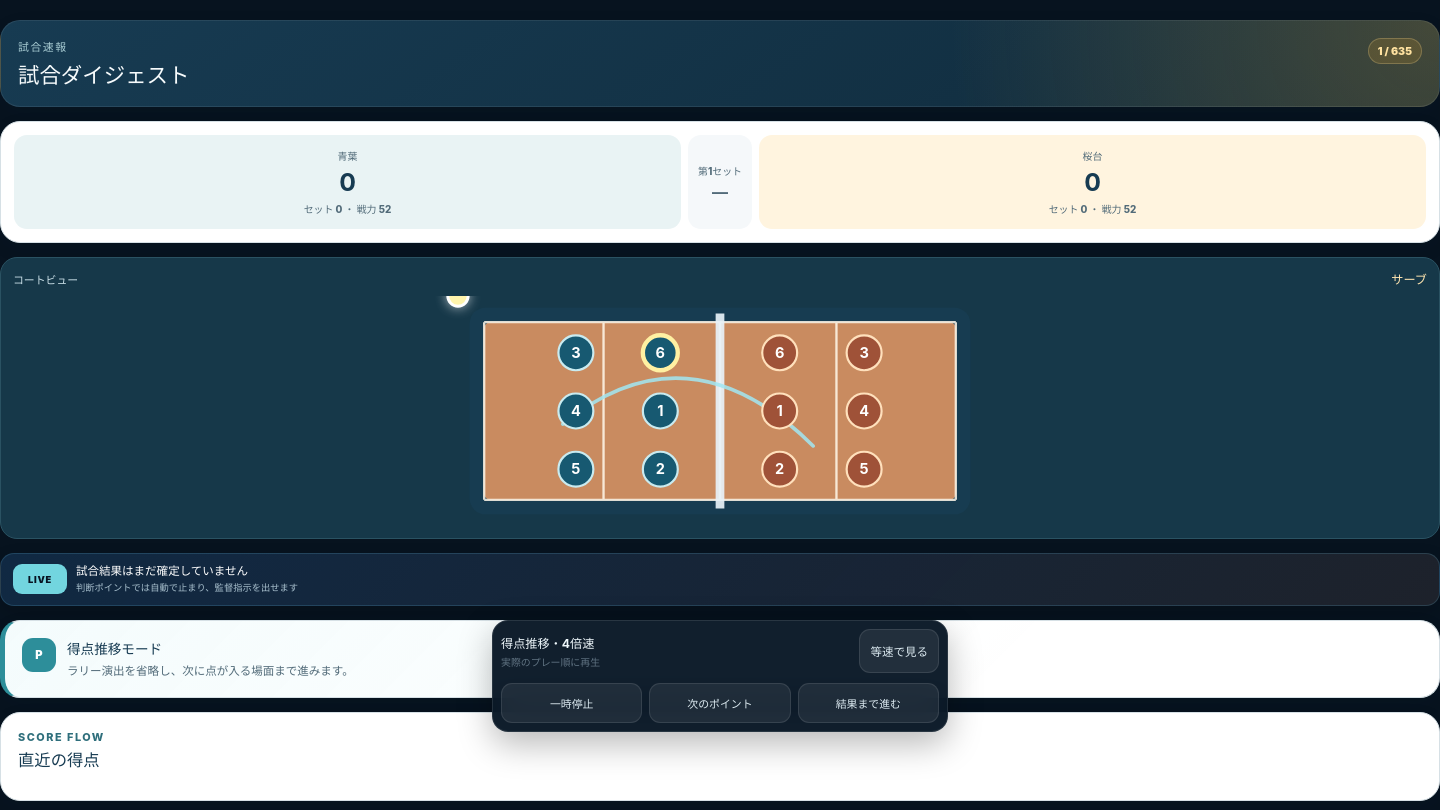
Scenario: Phase 13 game loop polish › shows the match result from the user's perspective with an always-available continuation bar
This screenshot has width=1440, height=810.
Click the button "結果まで進む". click: (868, 703)
box: x1=798 y1=683 x2=939 y2=723
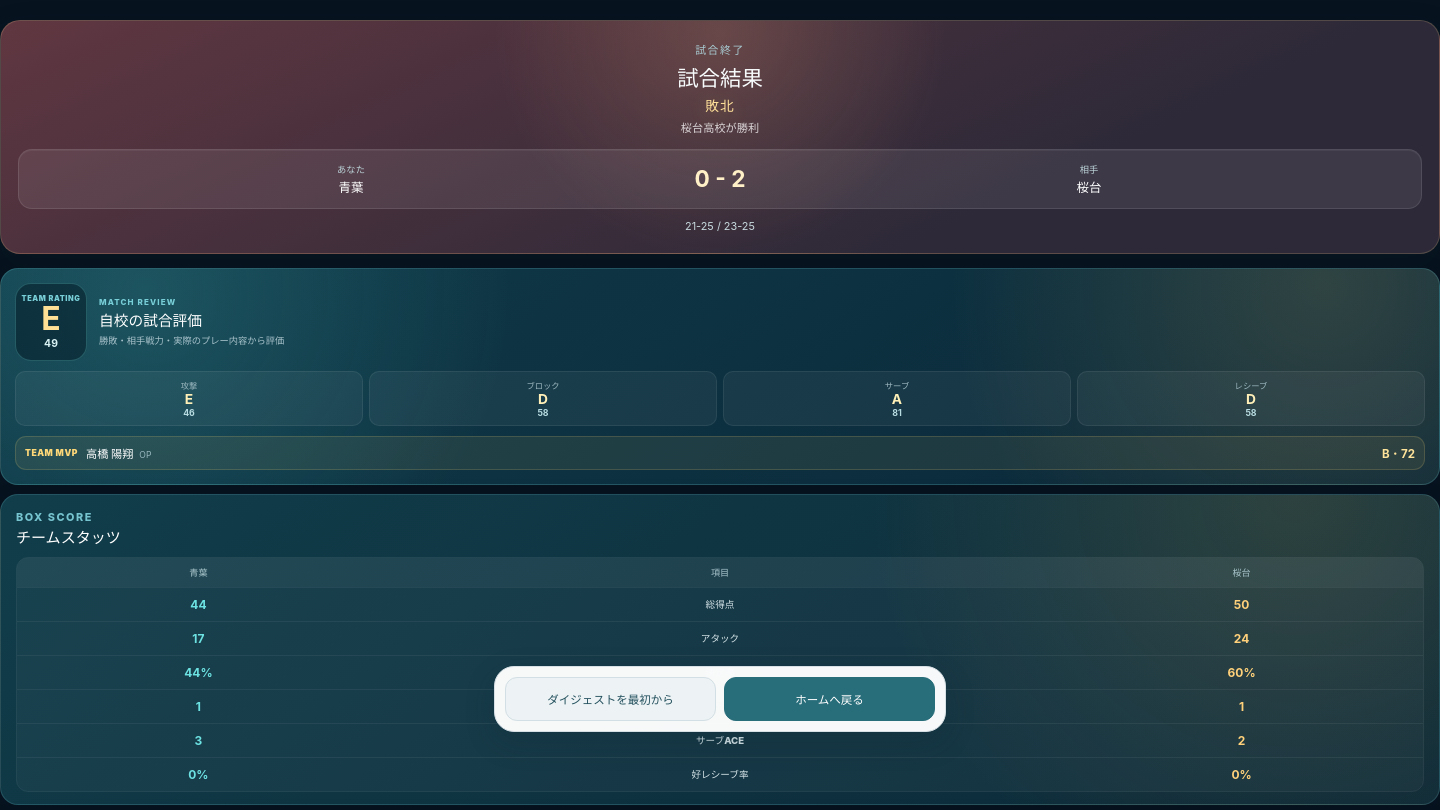
Expected: the text with test id "match-result-verdict" reads "敗北", x1=705 y1=98 x2=735 y2=114
Expected: the text "あなた" is shown, x1=337 y1=164 x2=365 y2=175
